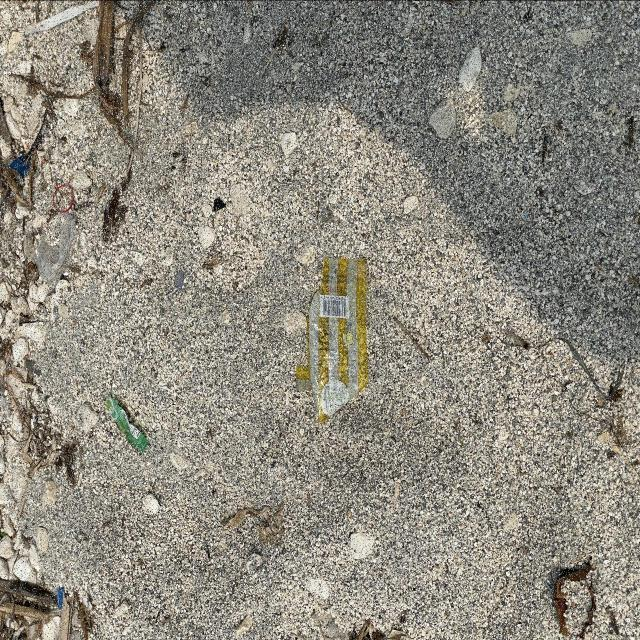plastic_waste: (295, 256, 367, 421), (108, 393, 150, 451)
